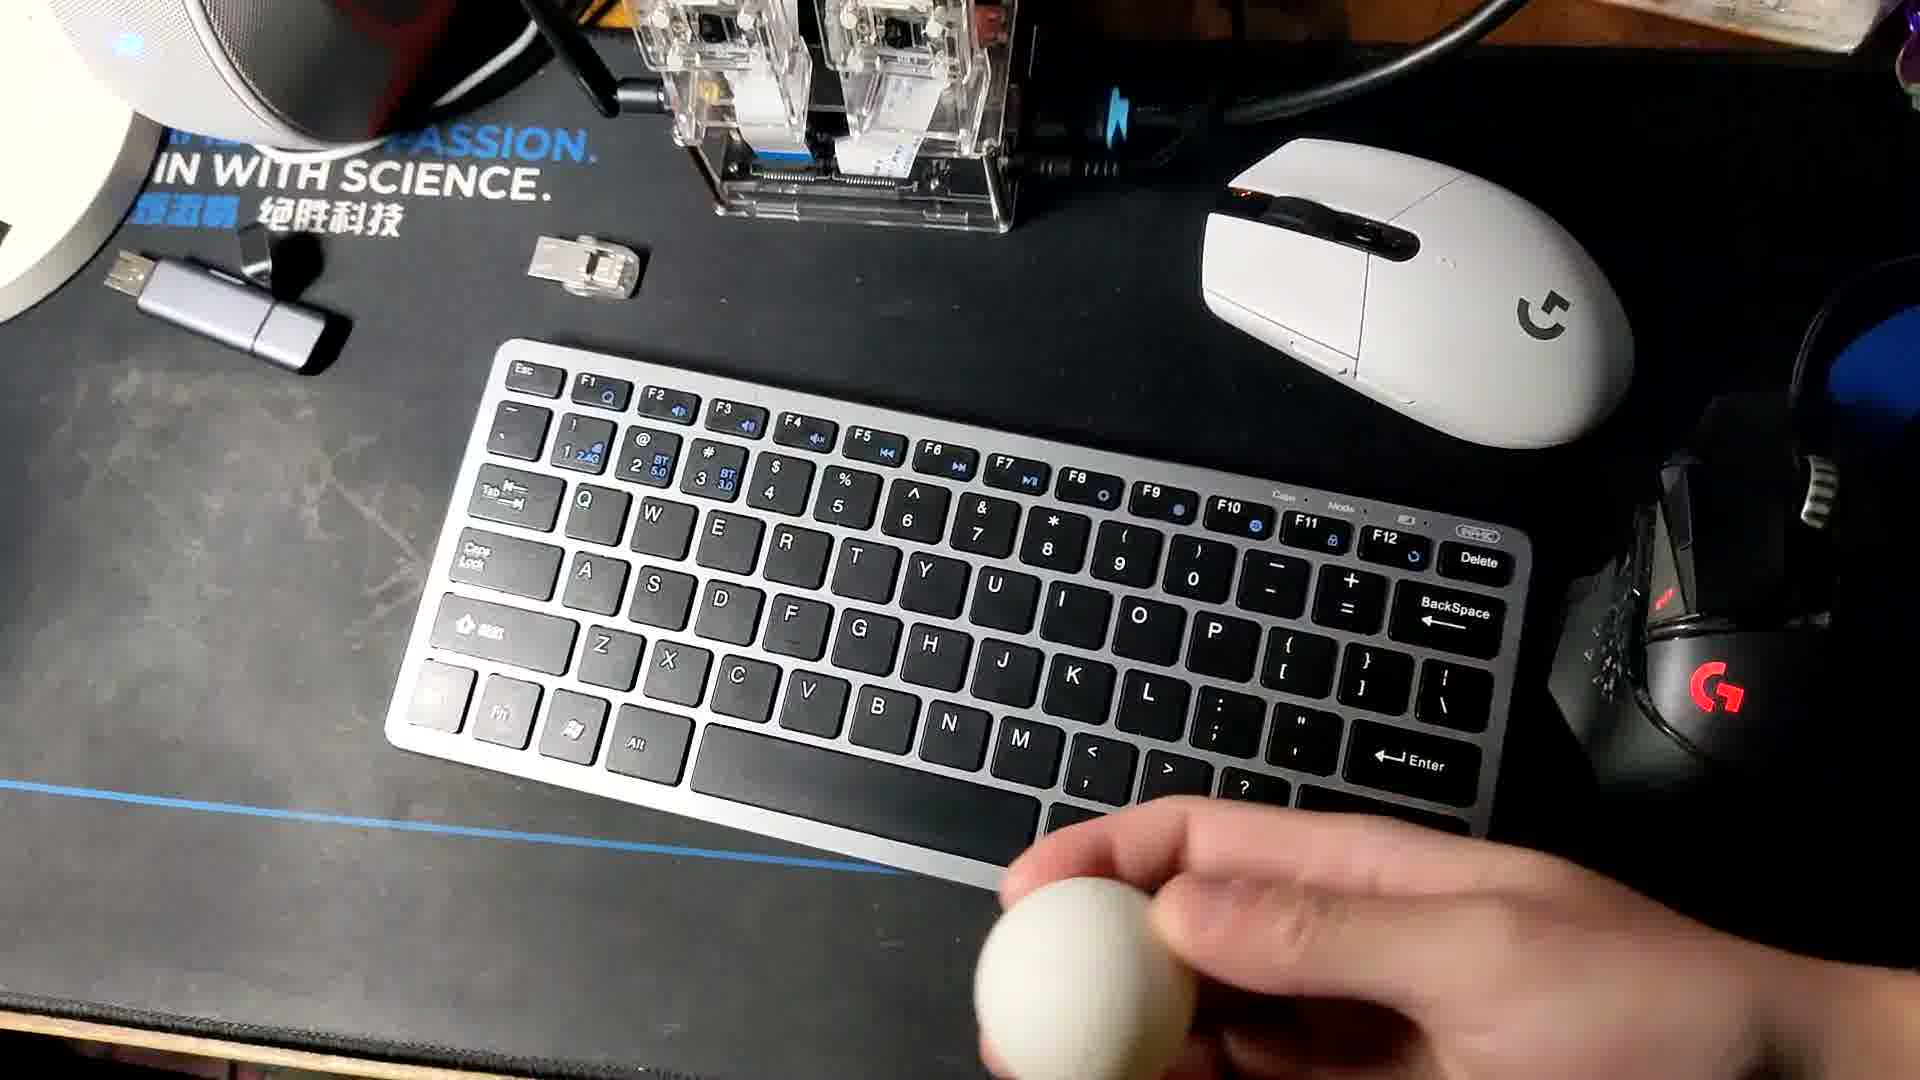Ball: (957, 880, 1193, 1080)
